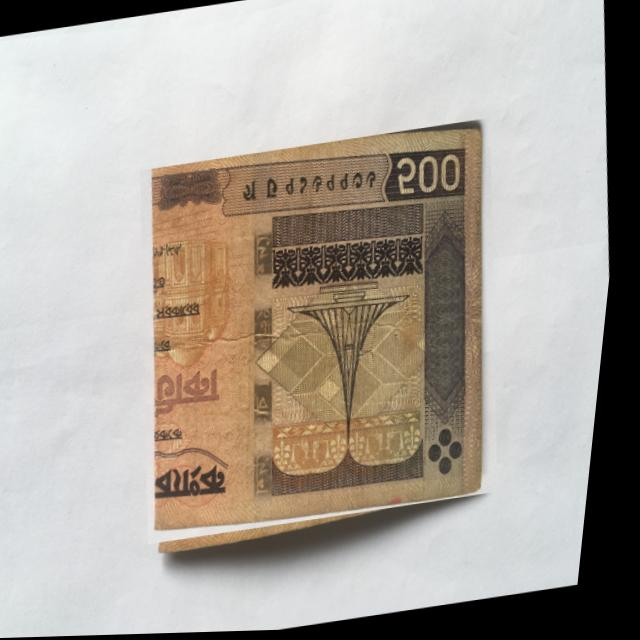Taka: (113, 119, 539, 546)
